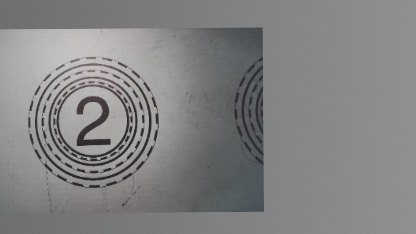2r: (24, 55, 160, 190)
